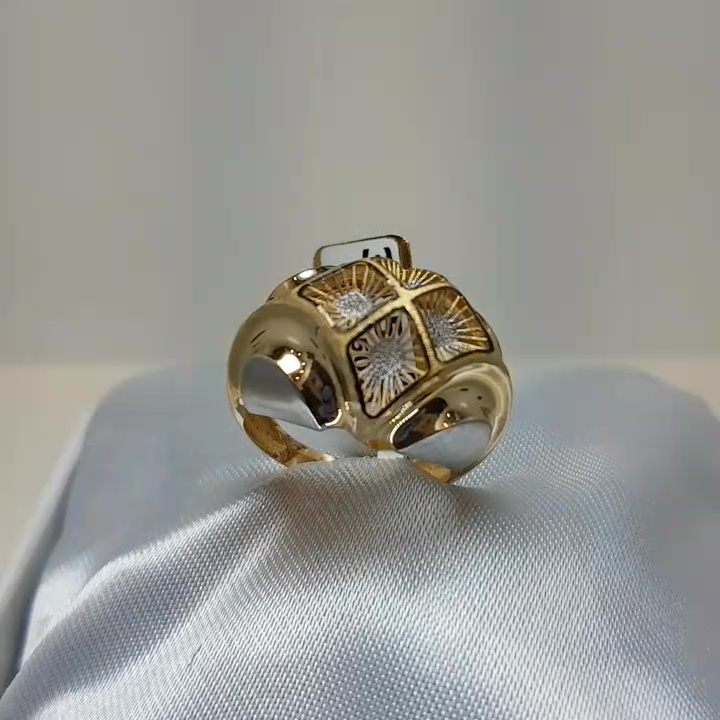Ring 2: (209, 234, 537, 507)
